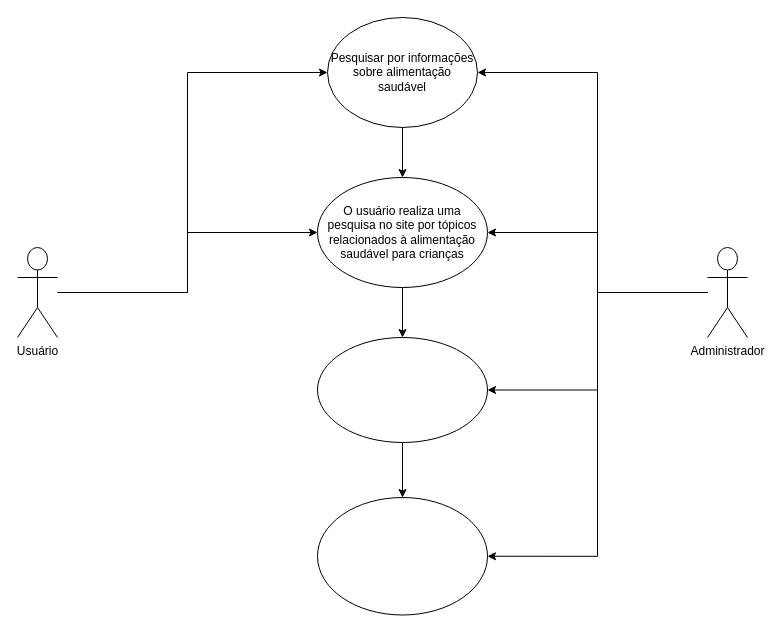
The diagram is 782 pixels wide and 633 high, and some of its shapes have lost their labels. The shapes that lost their labels are listed below. From the top down, each one's centre as x and y in pixels, then its label:
(x=402, y=389): Compartilhar conteúdo
(x=402, y=555): Fornecer Feedback
